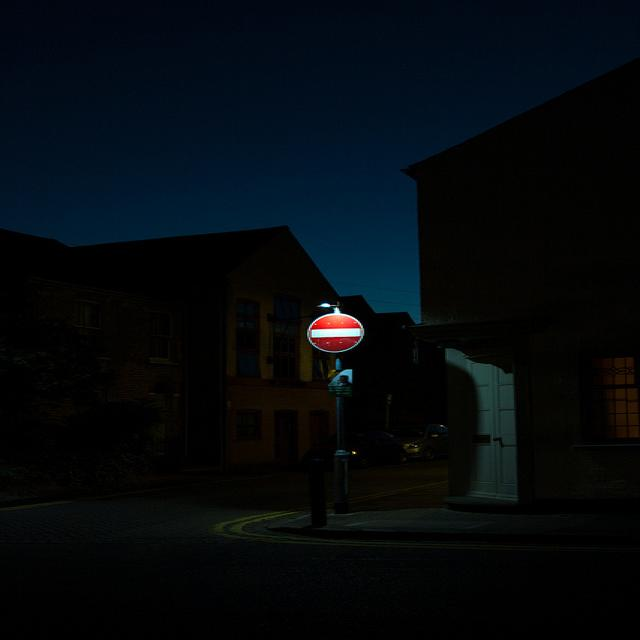Car: (304, 427, 406, 467), (0, 424, 69, 432)
